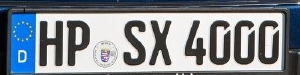0: (208, 19, 232, 66), (233, 20, 257, 66), (257, 20, 280, 66)
4: (183, 19, 208, 67)
H: (38, 20, 65, 67)
P: (65, 20, 91, 68)
S: (122, 19, 147, 67)
X: (148, 19, 174, 67)
